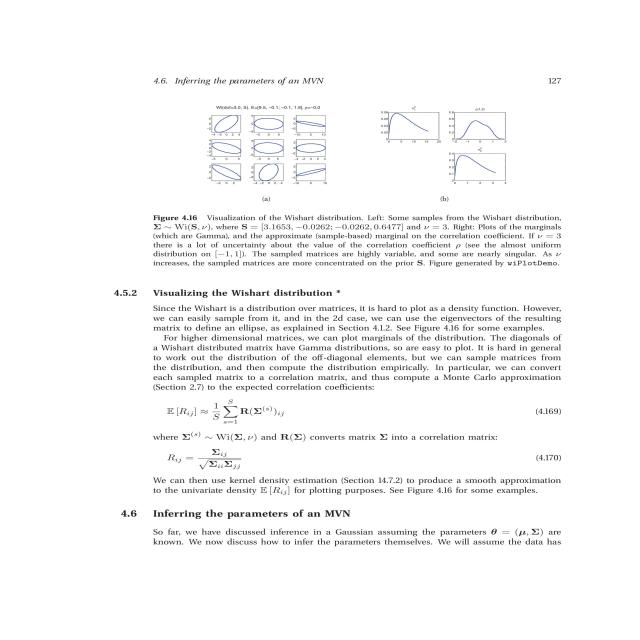diagram: (118, 62, 640, 270)
